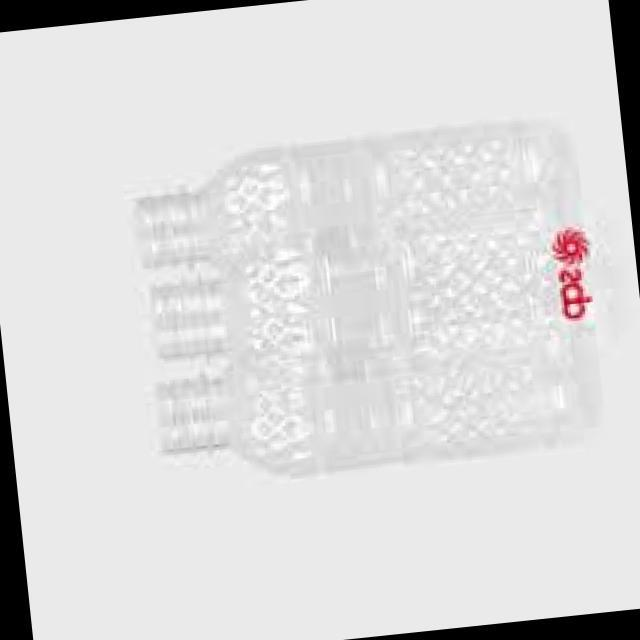good: (144, 330, 596, 518), (140, 225, 586, 392), (117, 126, 568, 278)
